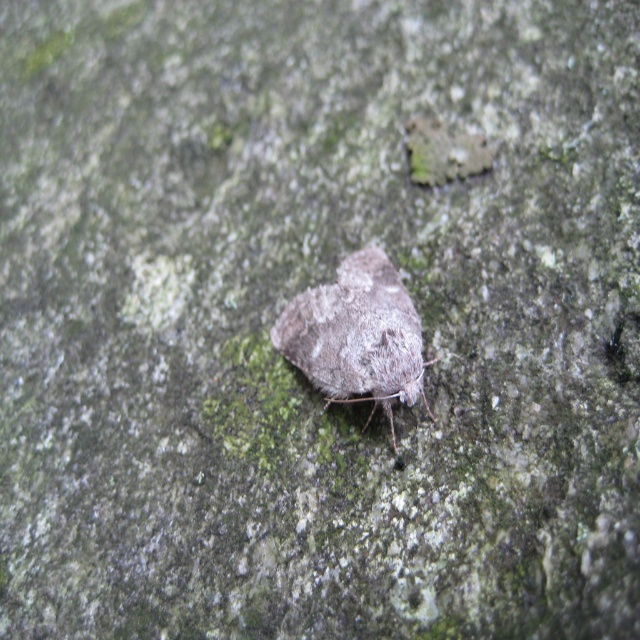Moths and butterflies: (270, 243, 466, 461)
